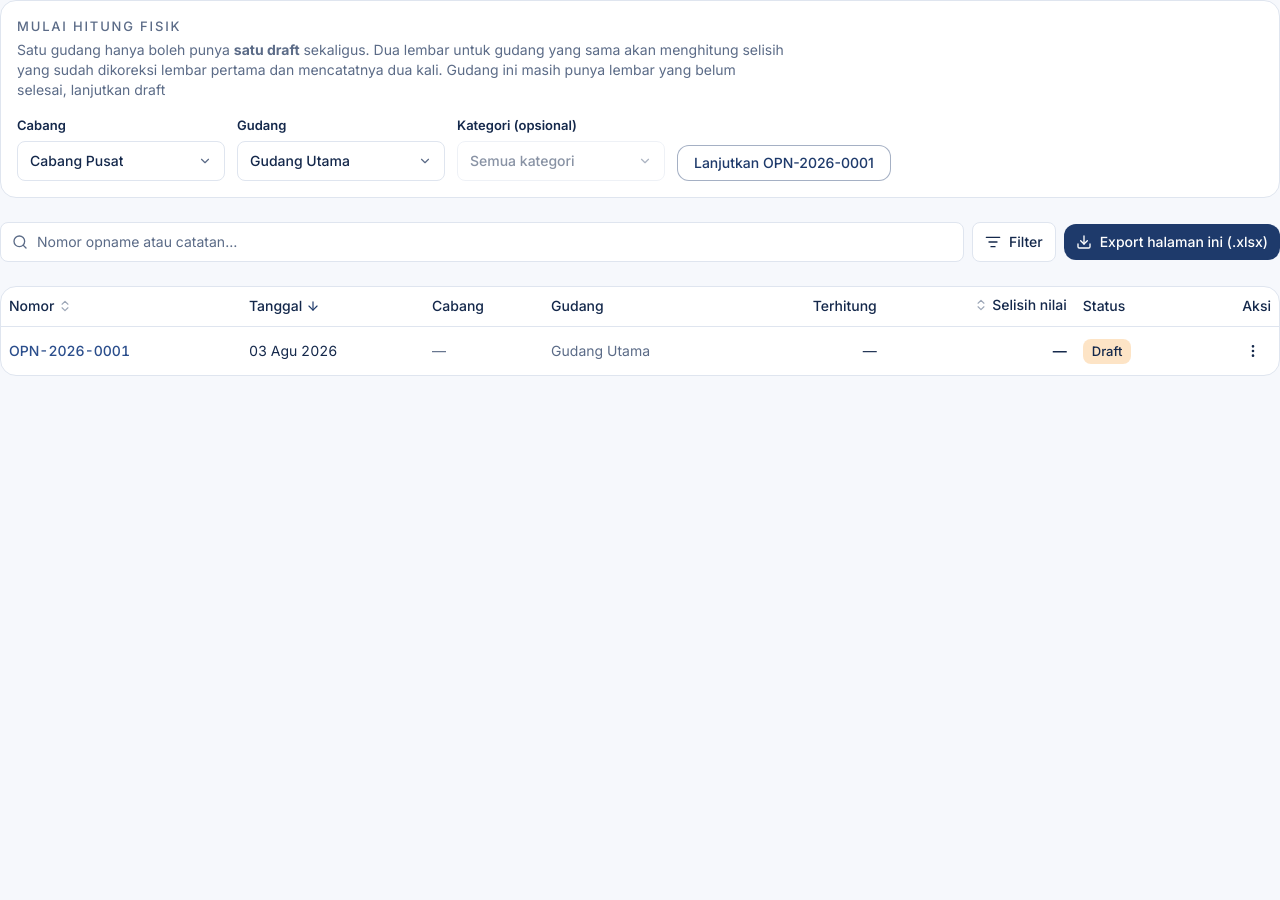
OpnameScreen › the filter panel › puts every filter behind one button
The width and height of the screenshot is (1280, 900).
Expected: the link "OPN-2026-0001" is shown, [9,342,130,359]
Click the button "Filter" at (1014, 242), box [972,222,1056,262]
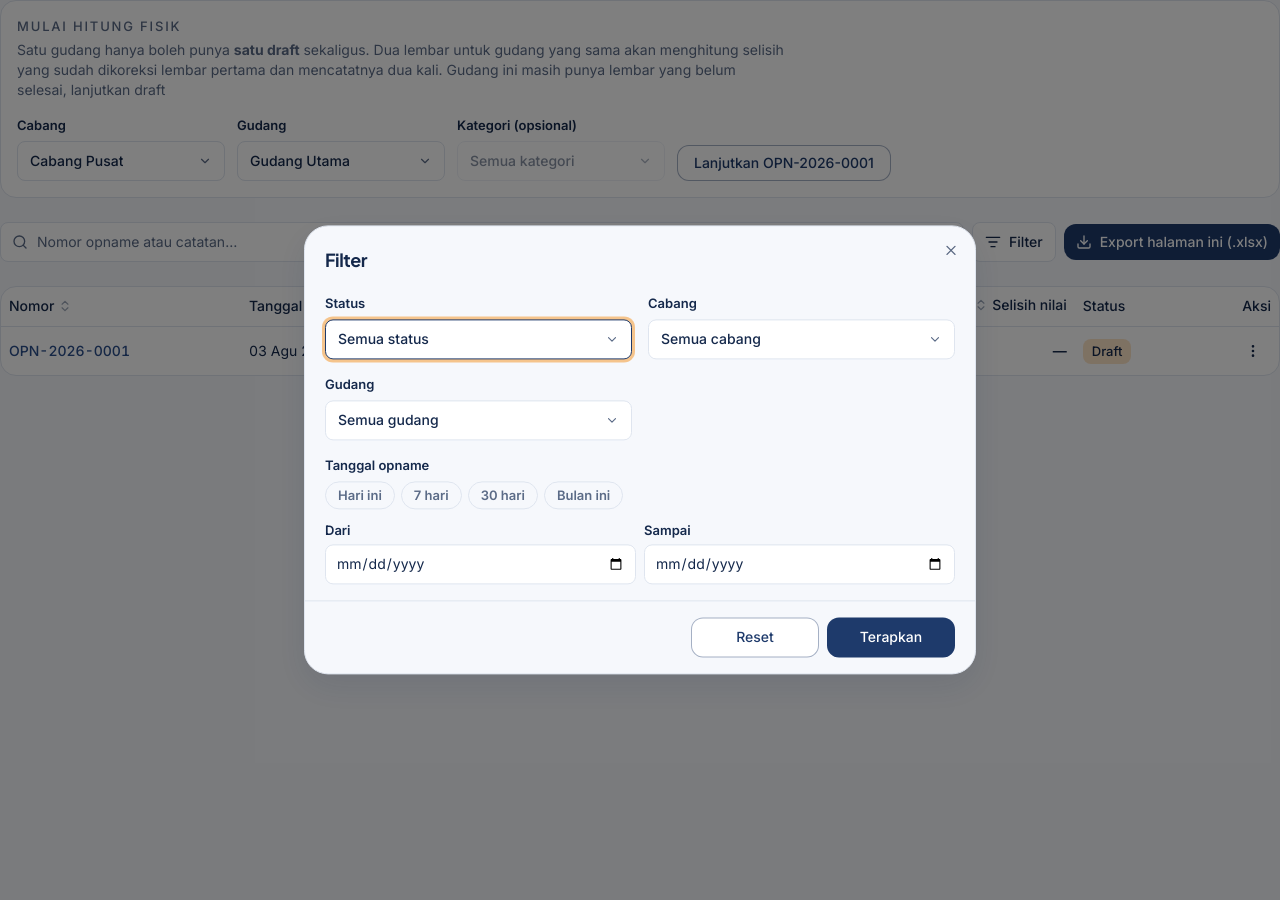
Now the button with aria-label "Filter status opname" is shown, box [325,319,632,359]
Now the button with aria-label "Filter cabang" is shown, box [648,319,955,359]
Now the button with aria-label "Filter gudang" is shown, box [325,400,632,440]
